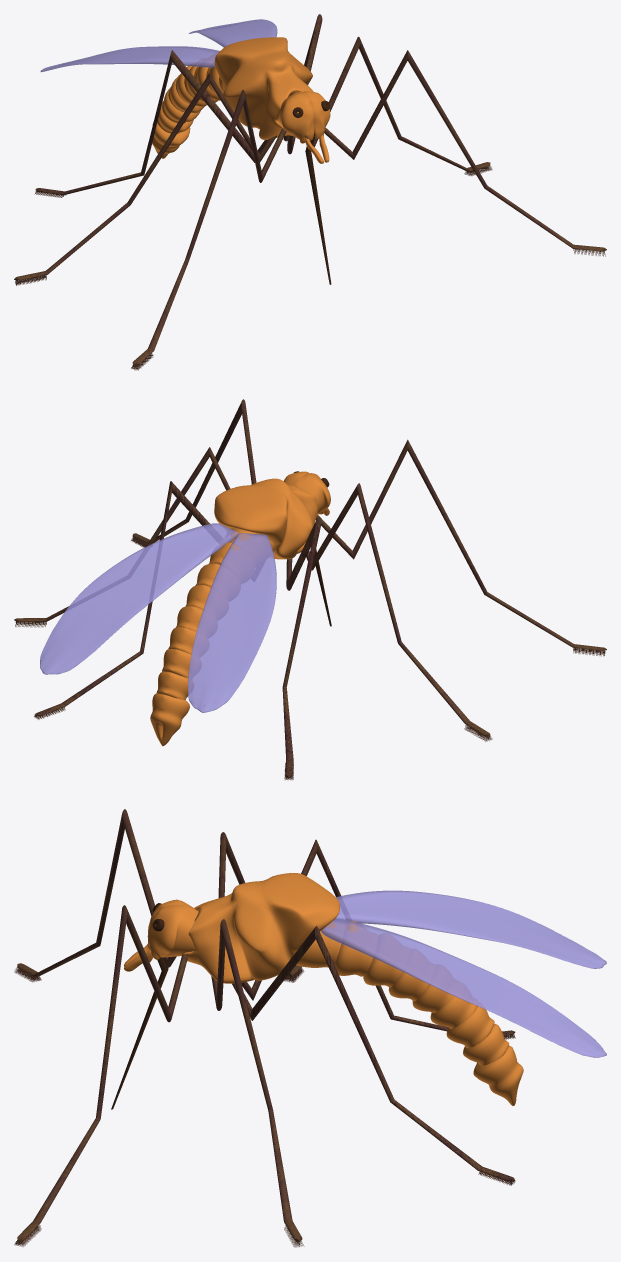
Rendered from Chivin.fbx.
3 views of the same model, one above another, from view 1: azimuth 30°, elevation 25°; view 2: azimuth 150°, elevation 25°; view 3: azimuth 270°, elevation 25° (orthographic). The views are drawn at different scales.
Visible parts, largest first — view 1: 蚊子.003, 蚊子.004; view 2: 蚊子.003, 蚊子.004; view 3: 蚊子.003, 蚊子.004.
Boxes of the visible parts, bbox=[...] form: 蚊子.003: bbox=[14, 14, 606, 370]; 蚊子.004: bbox=[40, 19, 277, 72]; 蚊子.003: bbox=[14, 399, 606, 779]; 蚊子.004: bbox=[40, 523, 276, 712]; 蚊子.003: bbox=[14, 809, 523, 1247]; 蚊子.004: bbox=[321, 890, 606, 1057].
Size of the model in its own units: 175 by 74.28 by 158.
5 materials, 5 textured.
